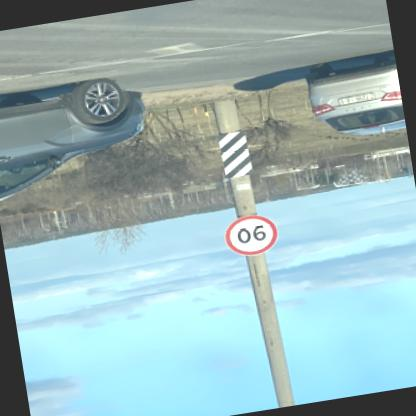speedlimit: (224, 214, 282, 260)
